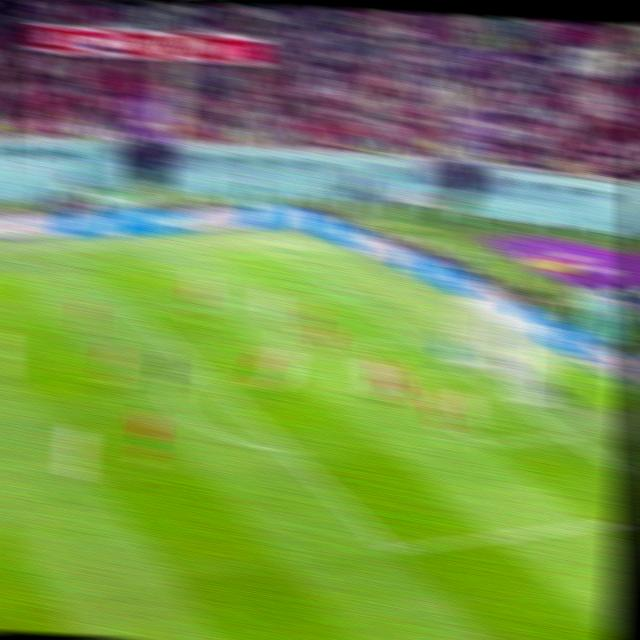bigarea_bottom_inner: (378, 533, 407, 565)
bigarea_top_inner: (123, 302, 151, 323)
bigarea_top_outter: (338, 290, 362, 303)
bottom_arc_area_intersection: (273, 437, 301, 463)
corner: (266, 246, 289, 258)
smallarea_bottom_inner: (470, 433, 494, 453)
smallarea_bottom_outter: (549, 423, 581, 449)
smallarea_top_inner: (337, 336, 359, 358)
smallarea_top_outter: (406, 332, 430, 350)
top_arc_area_intersection: (185, 356, 213, 380)
